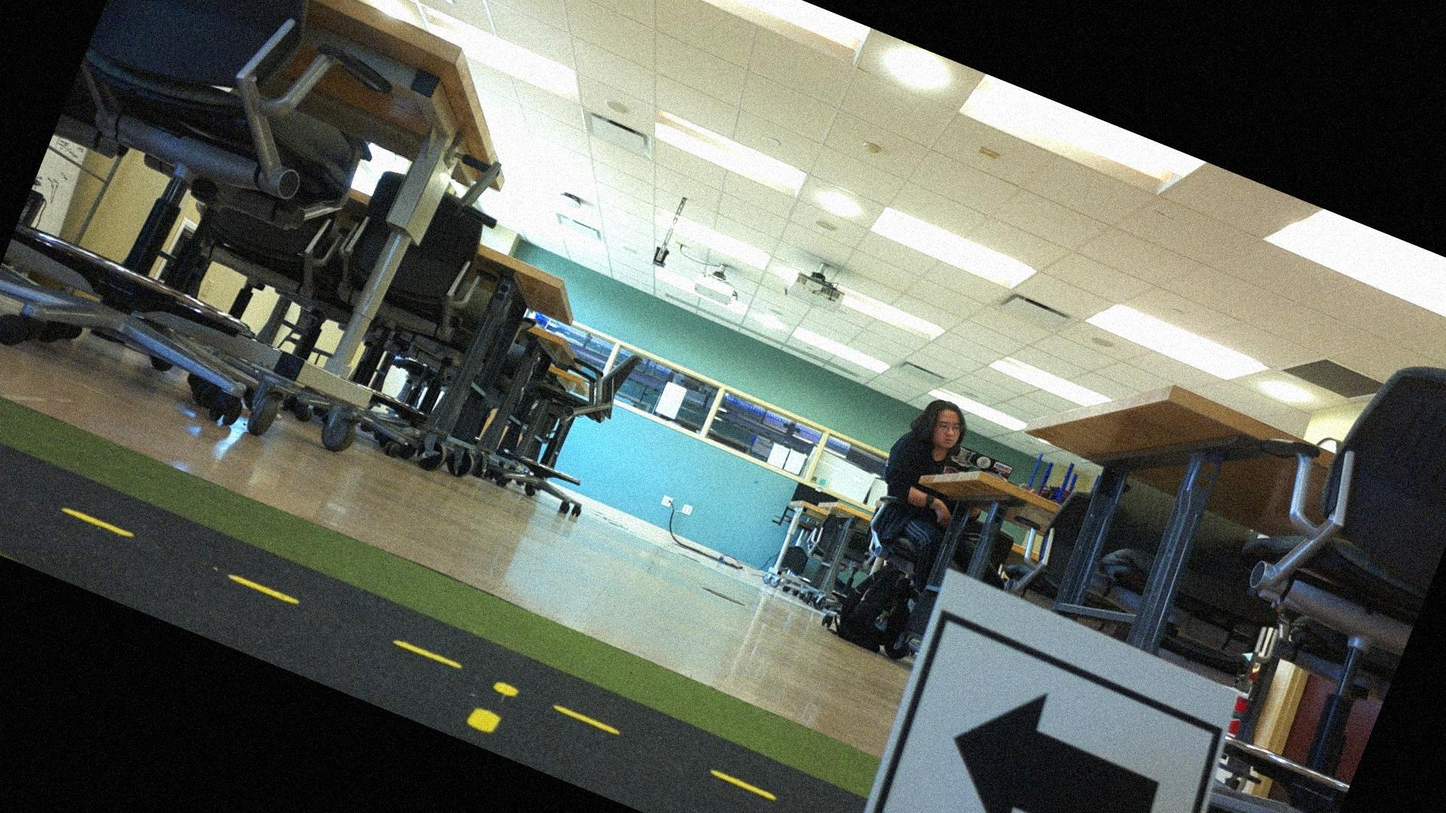turnright: (857, 625, 1221, 812)
yellowline: (0, 449, 781, 803), (461, 674, 520, 742)
